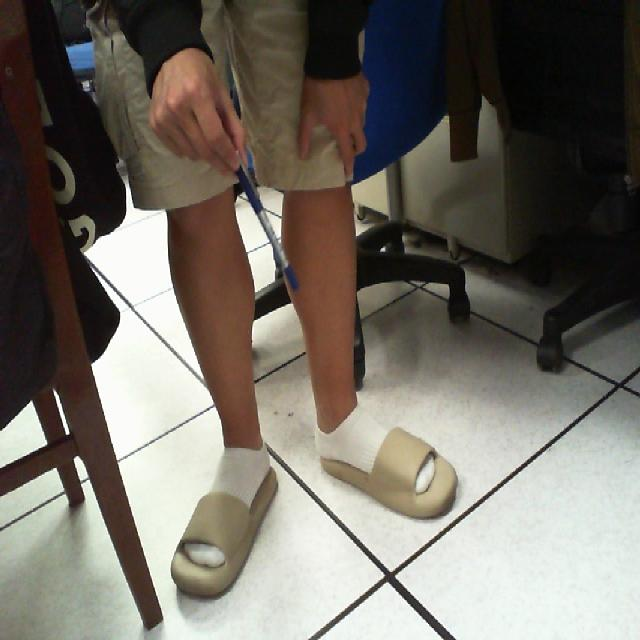Pen: (216, 129, 310, 308)
